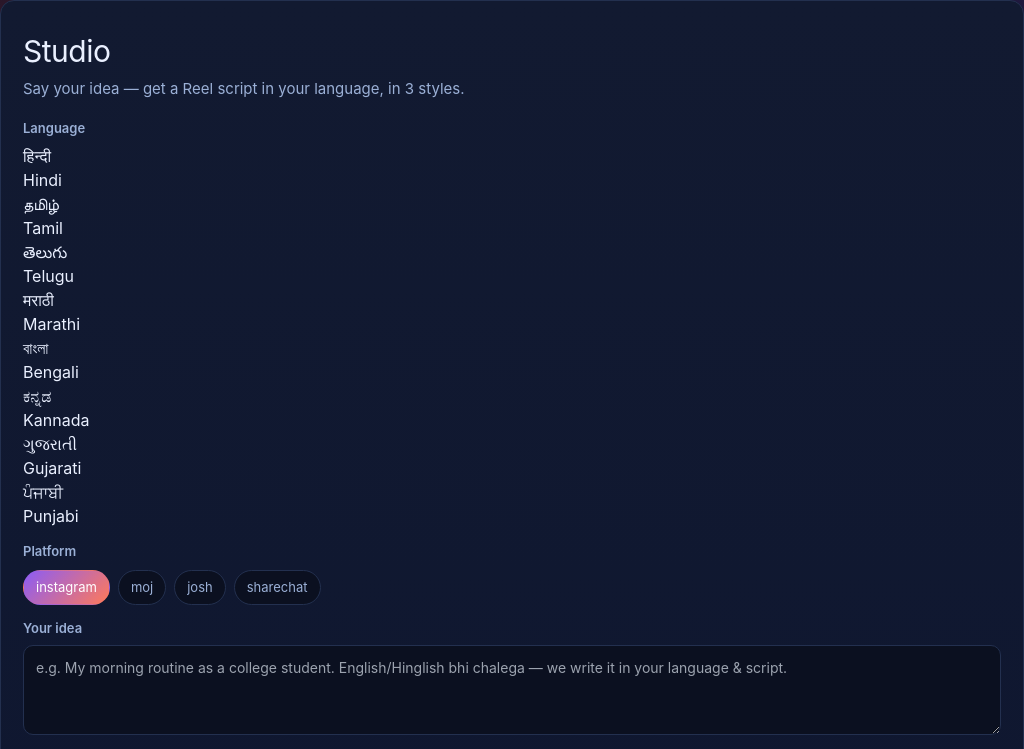
Test: <StudioClient> › opens the Paywall (with the ₹49 content pack → /settings/billing) on a 402
Type "x" into the text box with placeholder "My morning routine".
click(512, 690); type("x")  # box left=23, top=644, right=1001, bottom=734
(page scrolled)
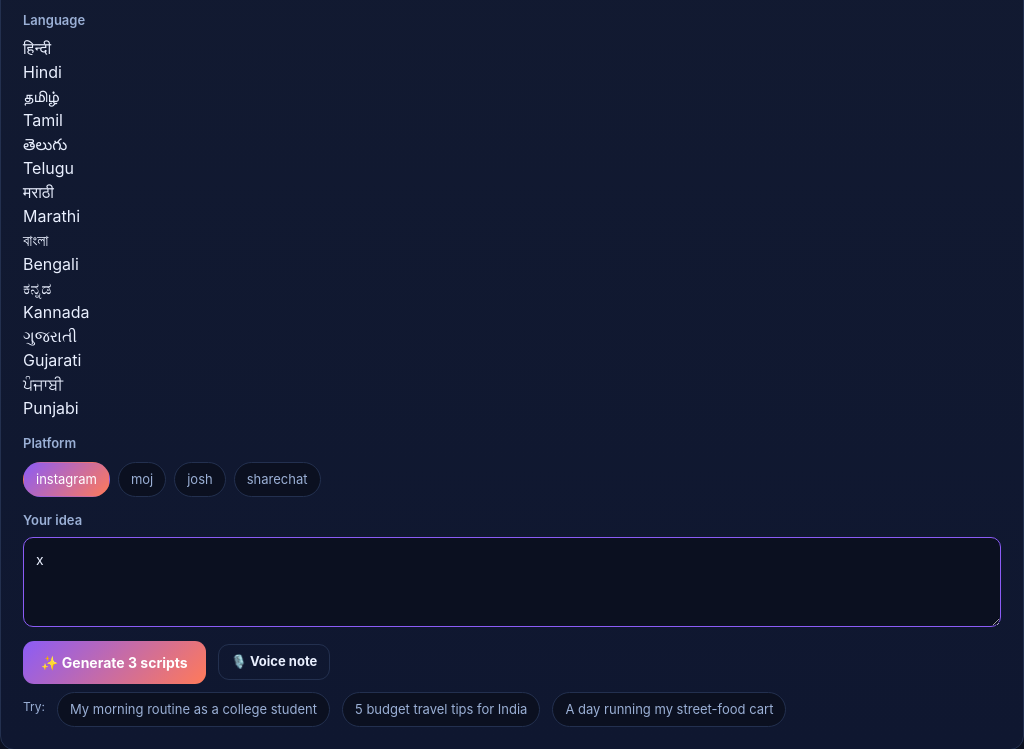
Click the button "✨ Generate 3 scripts".
click(114, 662)  # box left=23, top=640, right=206, bottom=684
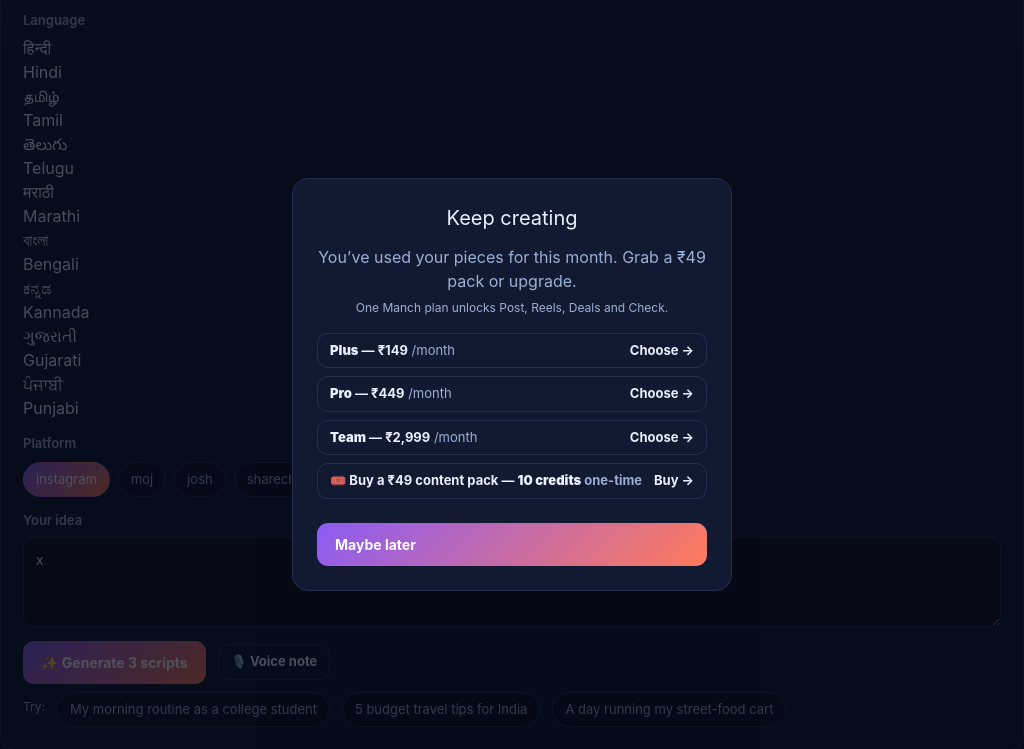
Expected: the text "10 credits" is shown, left=518, top=472, right=581, bottom=488
